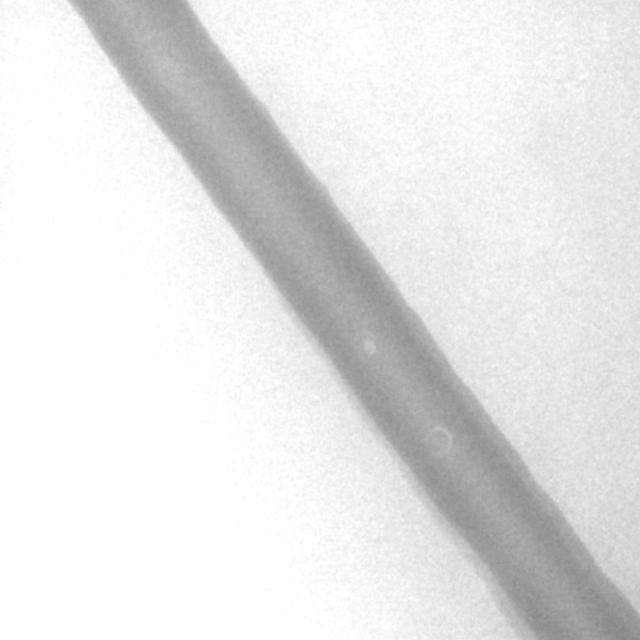air-hole: (365, 340, 378, 352)
